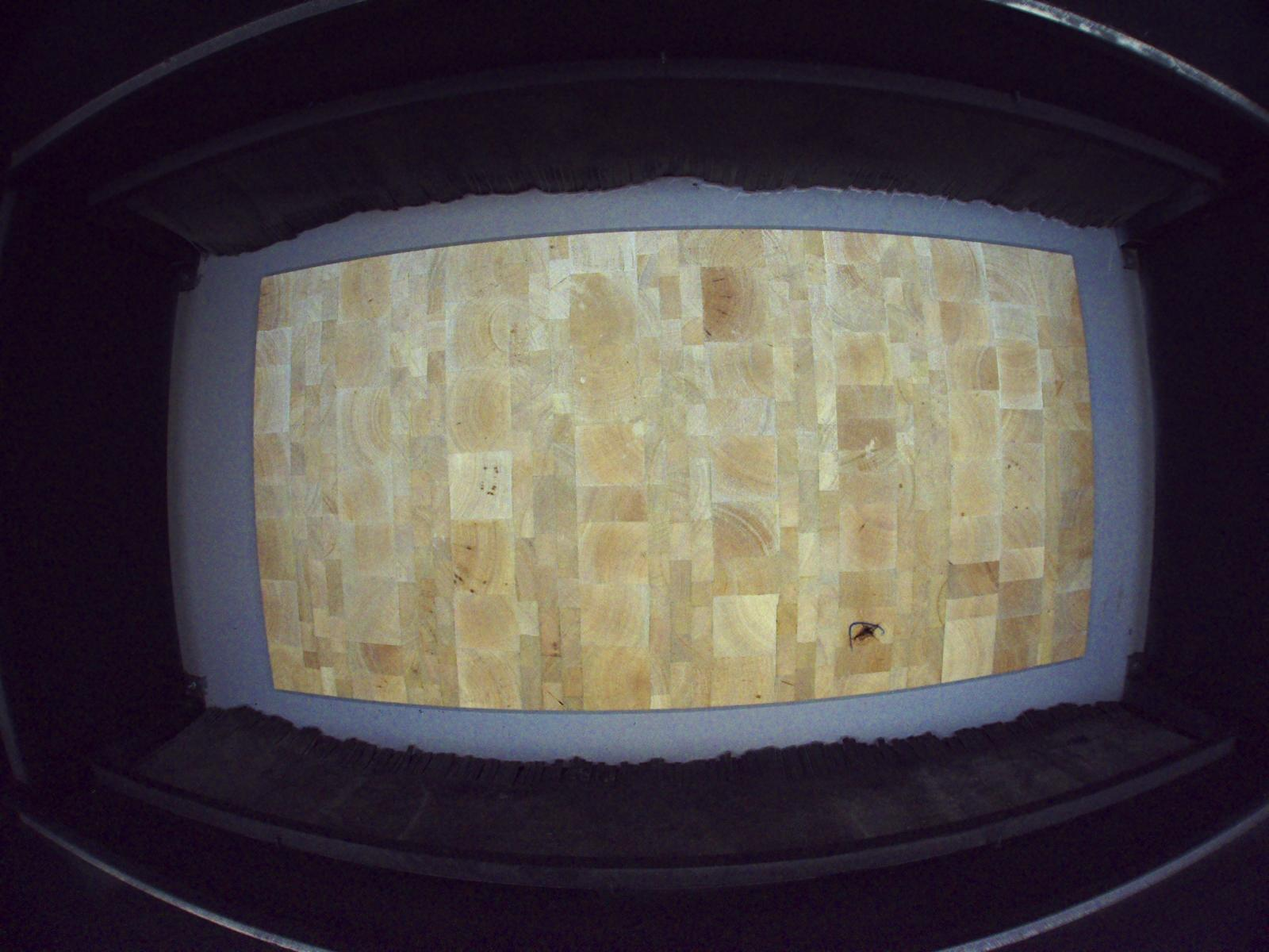sheck_ecuatoriano: (849, 609, 886, 647)
